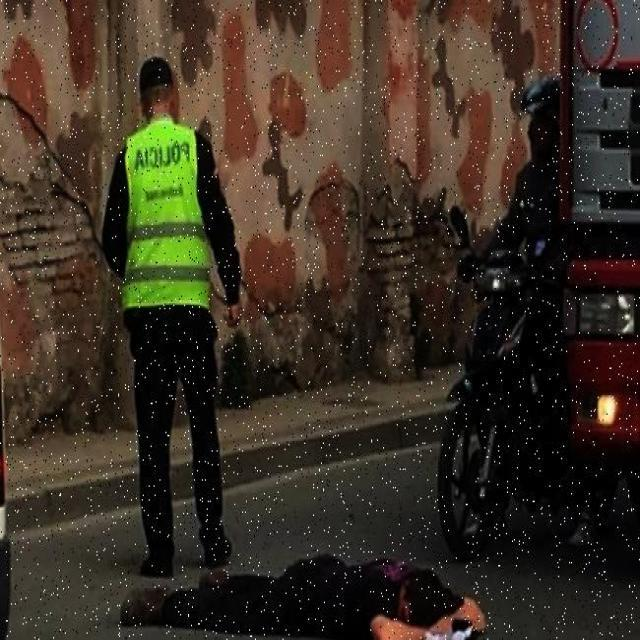fall: (130, 556, 490, 638)
